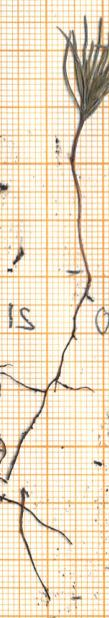flower: (54, 16, 109, 119)
root: (2, 276, 102, 484)
stem: (68, 123, 93, 272)
